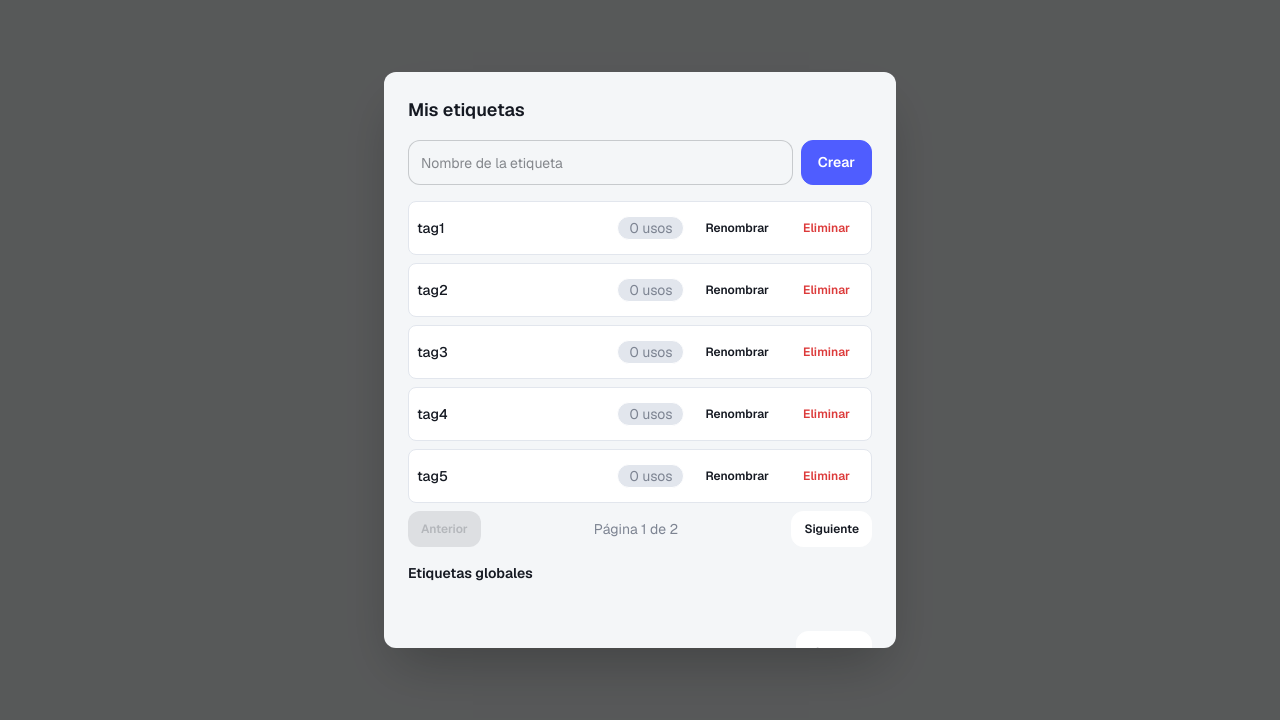
PrivateTagsDialog › pagina la lista de privadas (RF-19)
The width and height of the screenshot is (1280, 720).
Expected: the text "tag1" is shown, [417,219,445,237]
Expected: the text "tag5" is shown, [417,467,448,485]
What coordinates should you click on to do the following:
click the button "Siguiente"
I would click on:
 (832, 529)
Its box is [791,511,872,547].
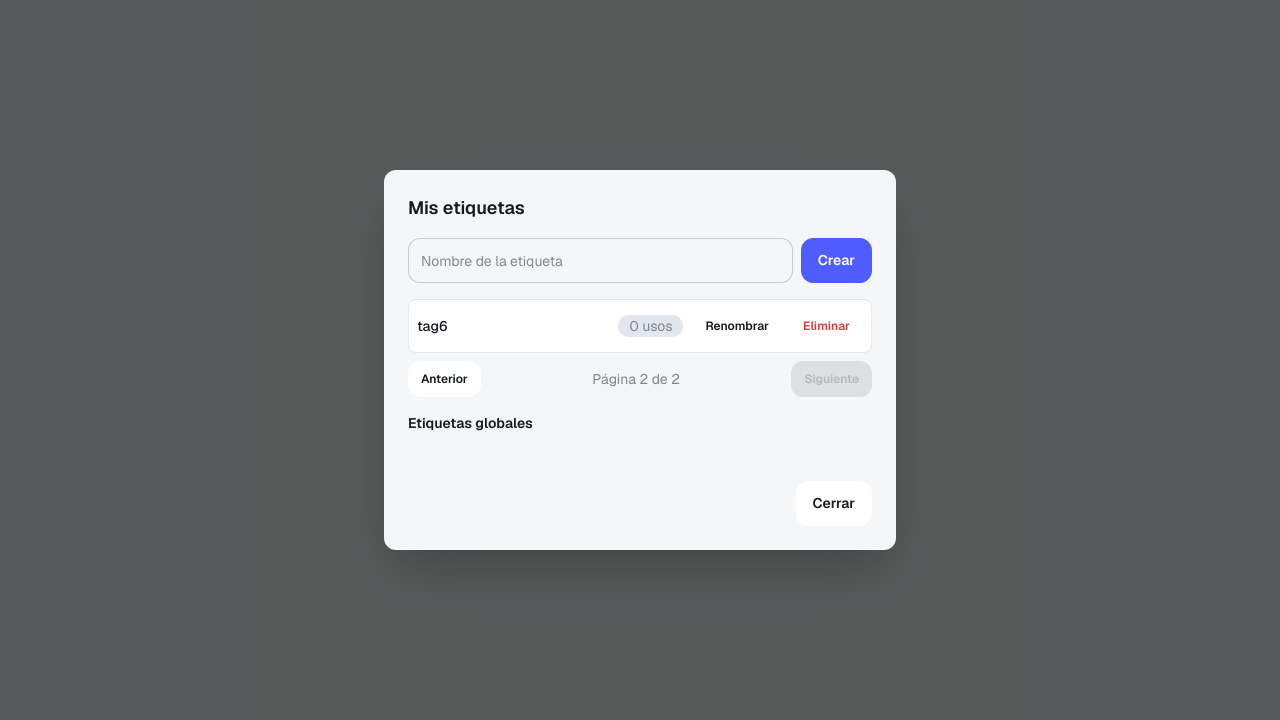
Expected: the text "tag6" is shown, [417,317,447,335]
